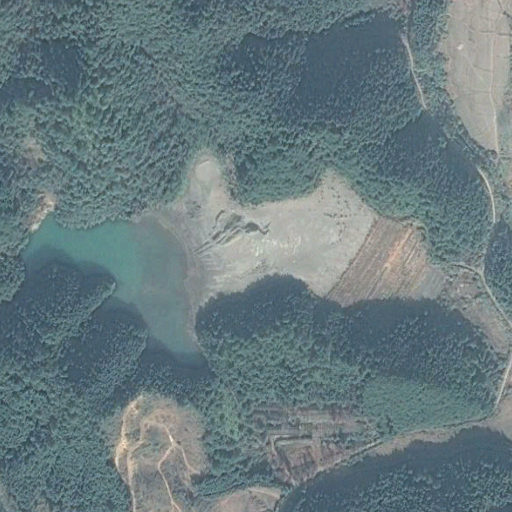tp: (21, 156, 449, 364)
